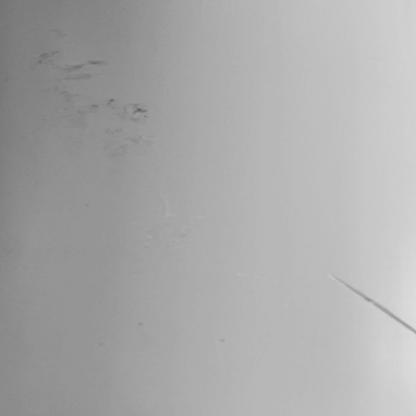sunshang: (329, 279, 416, 333)
